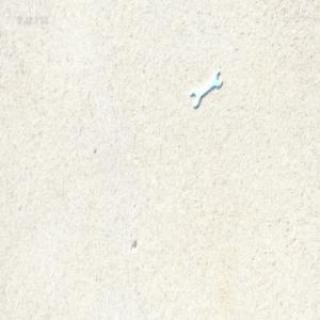Wrenchtrack_idkeyframe: (191, 70, 221, 108)
